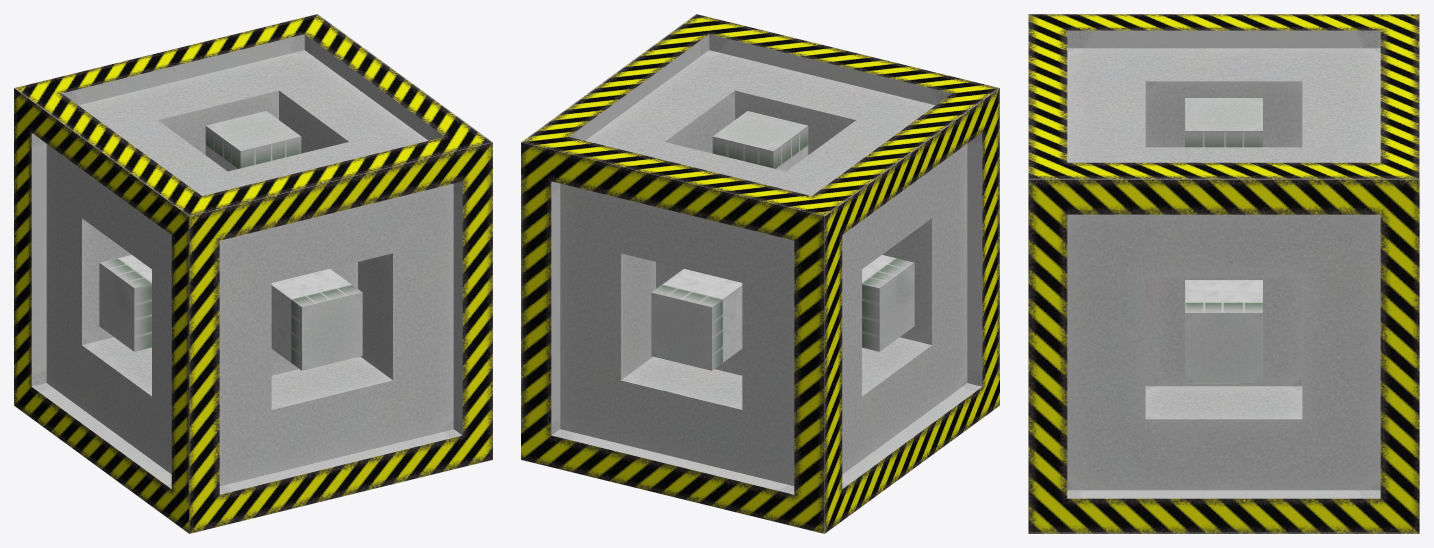
The model's file is ZCUBO.glb.
3 views of the same model, side by side, from view 1: azimuth 30°, elevation 25°; view 2: azimuth 150°, elevation 25°; view 3: azimuth 270°, elevation 25° (orthographic). The views are drawn at different scales.
Visible parts, largest first — view 1: CPU; view 2: CPU; view 3: CPU.
Boxes of the visible parts, x1,y1,x2,y2 form: CPU: (14, 14, 492, 533); CPU: (521, 14, 999, 533); CPU: (1028, 14, 1419, 533).
Bounding box in the file's own units: 2 × 2 × 2.
Materials: 1 (1 with a texture image).
